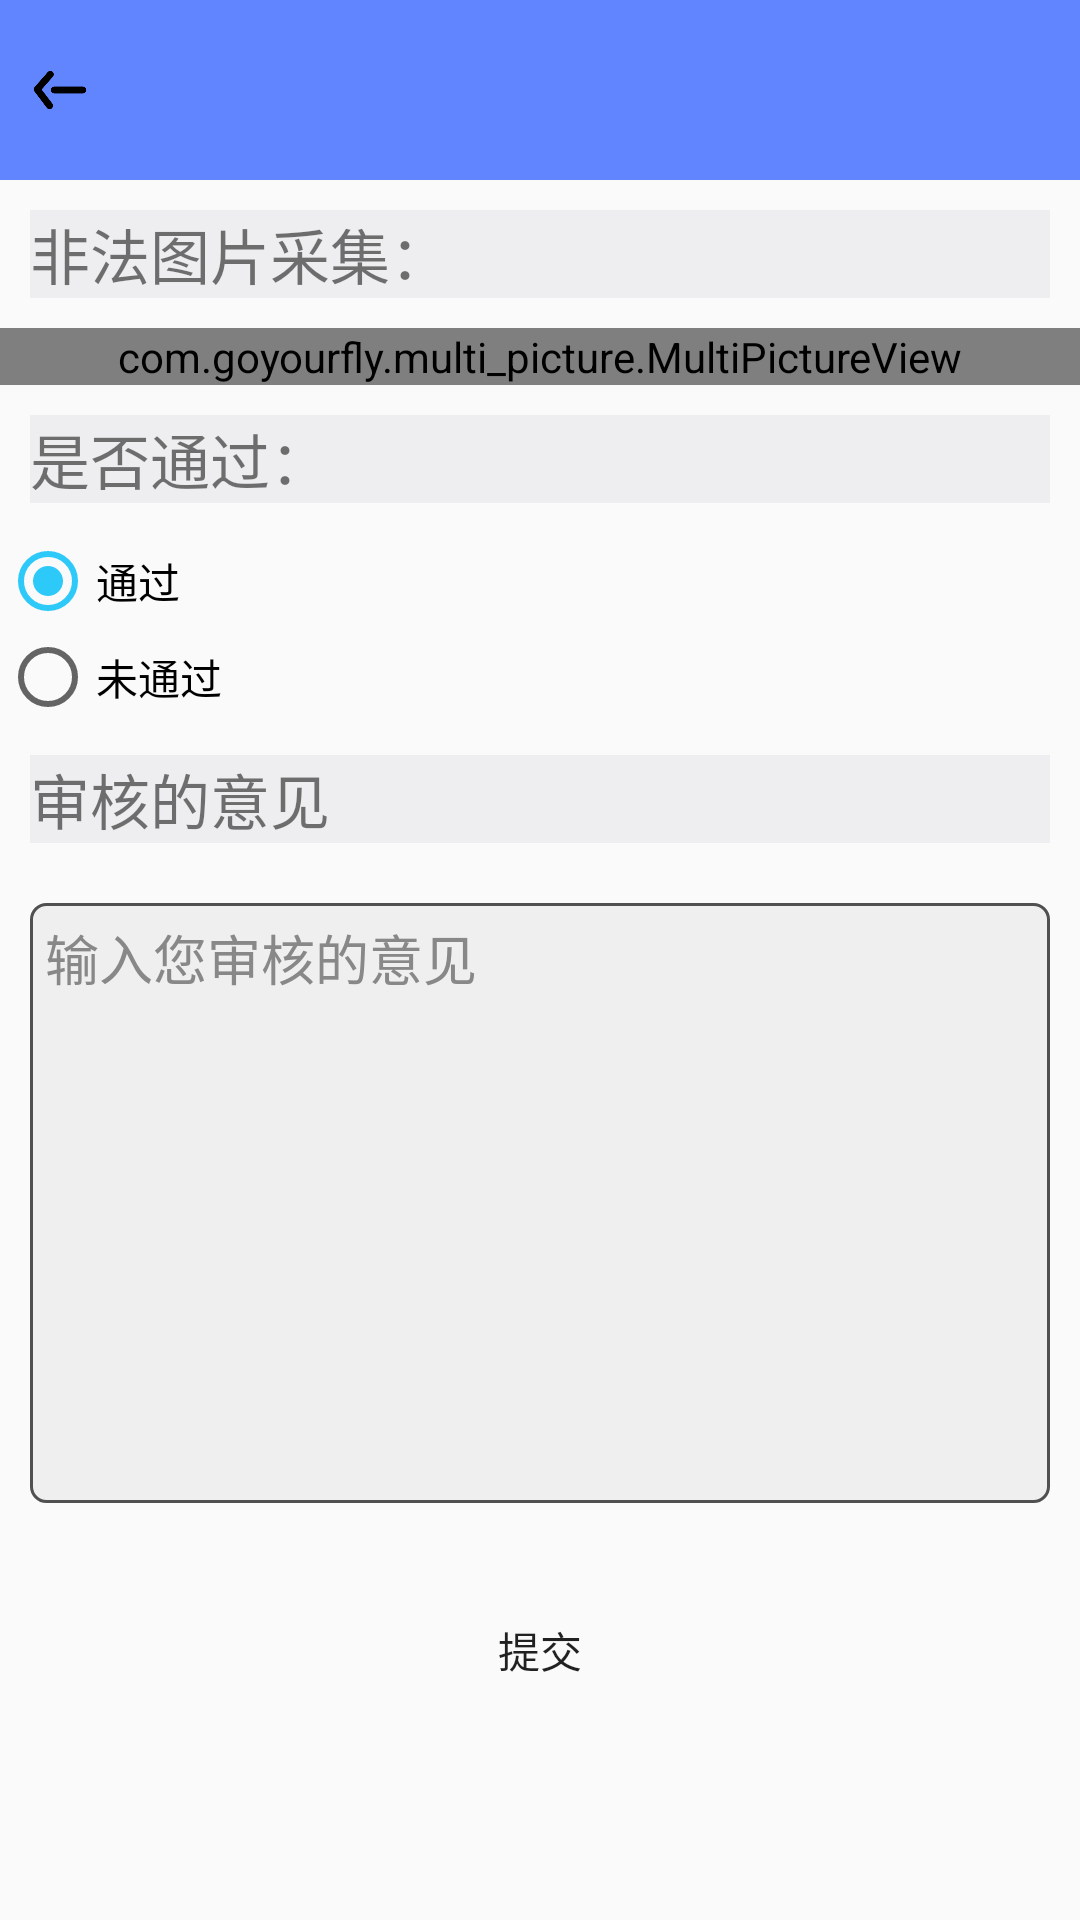

Locate icon controls on the screen. Image size 1080px x 1920px, boxes as (x1, y1, x2, y2).
fanhui: (34, 71, 86, 109)
